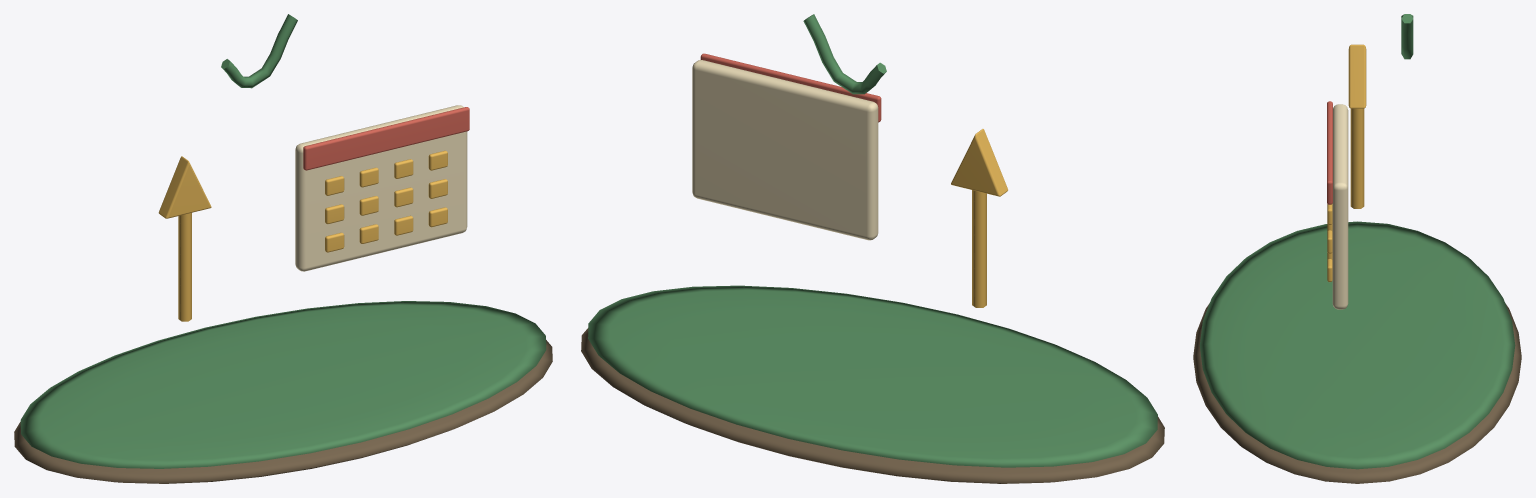
Rendered from complete-third-lift-to-front.glb.
3 renders of one model, left to right at view 1: azimuth 30°, elevation 25°; view 2: azimuth 150°, elevation 25°; view 3: azimuth 270°, elevation 25°, orthographic. The views are drawn at different scales.
Visible parts, largest first — view 1: complete-third-lift-to-front_surface_01, complete-third-lift-to-front_surface_03, complete-third-lift-to-front_surface_00, complete-third-lift-to-front_surface_02, complete-third-lift-to-front_surface_04; view 2: complete-third-lift-to-front_surface_01, complete-third-lift-to-front_surface_03, complete-third-lift-to-front_surface_00, complete-third-lift-to-front_surface_02, complete-third-lift-to-front_surface_04; view 3: complete-third-lift-to-front_surface_01, complete-third-lift-to-front_surface_00, complete-third-lift-to-front_surface_03, complete-third-lift-to-front_surface_02, complete-third-lift-to-front_surface_04.
Boxes of the visible parts, x1,y1,x2,y2 form: complete-third-lift-to-front_surface_01: [20, 14, 546, 468]; complete-third-lift-to-front_surface_03: [295, 105, 467, 271]; complete-third-lift-to-front_surface_00: [14, 340, 552, 483]; complete-third-lift-to-front_surface_02: [158, 150, 447, 321]; complete-third-lift-to-front_surface_04: [303, 107, 469, 170]; complete-third-lift-to-front_surface_01: [588, 14, 1157, 467]; complete-third-lift-to-front_surface_03: [692, 60, 878, 240]; complete-third-lift-to-front_surface_00: [581, 328, 1164, 483]; complete-third-lift-to-front_surface_02: [951, 129, 1007, 307]; complete-third-lift-to-front_surface_04: [700, 53, 881, 122]; complete-third-lift-to-front_surface_01: [1199, 14, 1515, 469]; complete-third-lift-to-front_surface_00: [1193, 303, 1521, 483]; complete-third-lift-to-front_surface_03: [1332, 104, 1348, 309]; complete-third-lift-to-front_surface_02: [1327, 44, 1366, 282]; complete-third-lift-to-front_surface_04: [1327, 101, 1332, 204].
Size of the model in its own units: 4.56 by 3.14 by 2.5.
